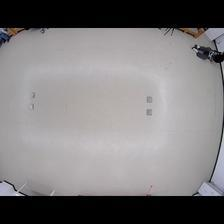fall: (191, 42, 224, 63)
